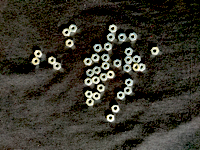nut: (125, 47, 134, 56), (118, 33, 127, 42), (151, 47, 160, 55), (129, 33, 138, 41), (133, 55, 141, 64), (133, 63, 141, 72), (117, 91, 125, 100), (124, 64, 132, 73), (114, 59, 122, 68), (109, 24, 117, 33), (107, 114, 115, 123), (97, 84, 105, 93), (92, 53, 100, 62), (93, 66, 101, 75), (84, 58, 93, 66), (86, 69, 95, 77), (86, 98, 94, 107), (53, 62, 62, 70), (34, 50, 43, 58), (125, 79, 133, 87), (124, 87, 132, 95), (125, 56, 133, 64), (112, 105, 120, 113), (107, 71, 115, 79), (107, 33, 115, 41), (102, 54, 110, 62), (102, 62, 110, 70), (100, 73, 108, 81), (94, 44, 102, 52), (92, 76, 100, 84), (93, 92, 101, 100), (85, 78, 93, 86), (85, 91, 93, 99), (63, 28, 71, 36), (66, 39, 74, 47), (32, 58, 40, 66), (105, 42, 112, 51), (69, 25, 78, 32), (49, 56, 56, 65), (140, 63, 146, 72)
